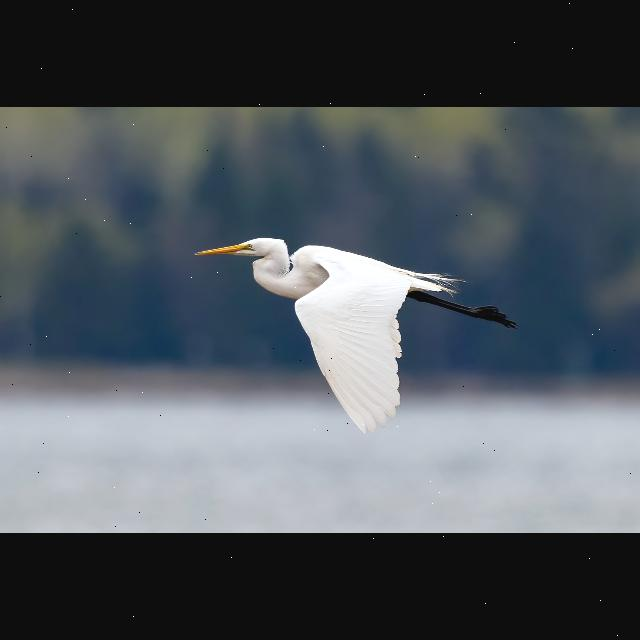egret: (182, 228, 526, 430)
